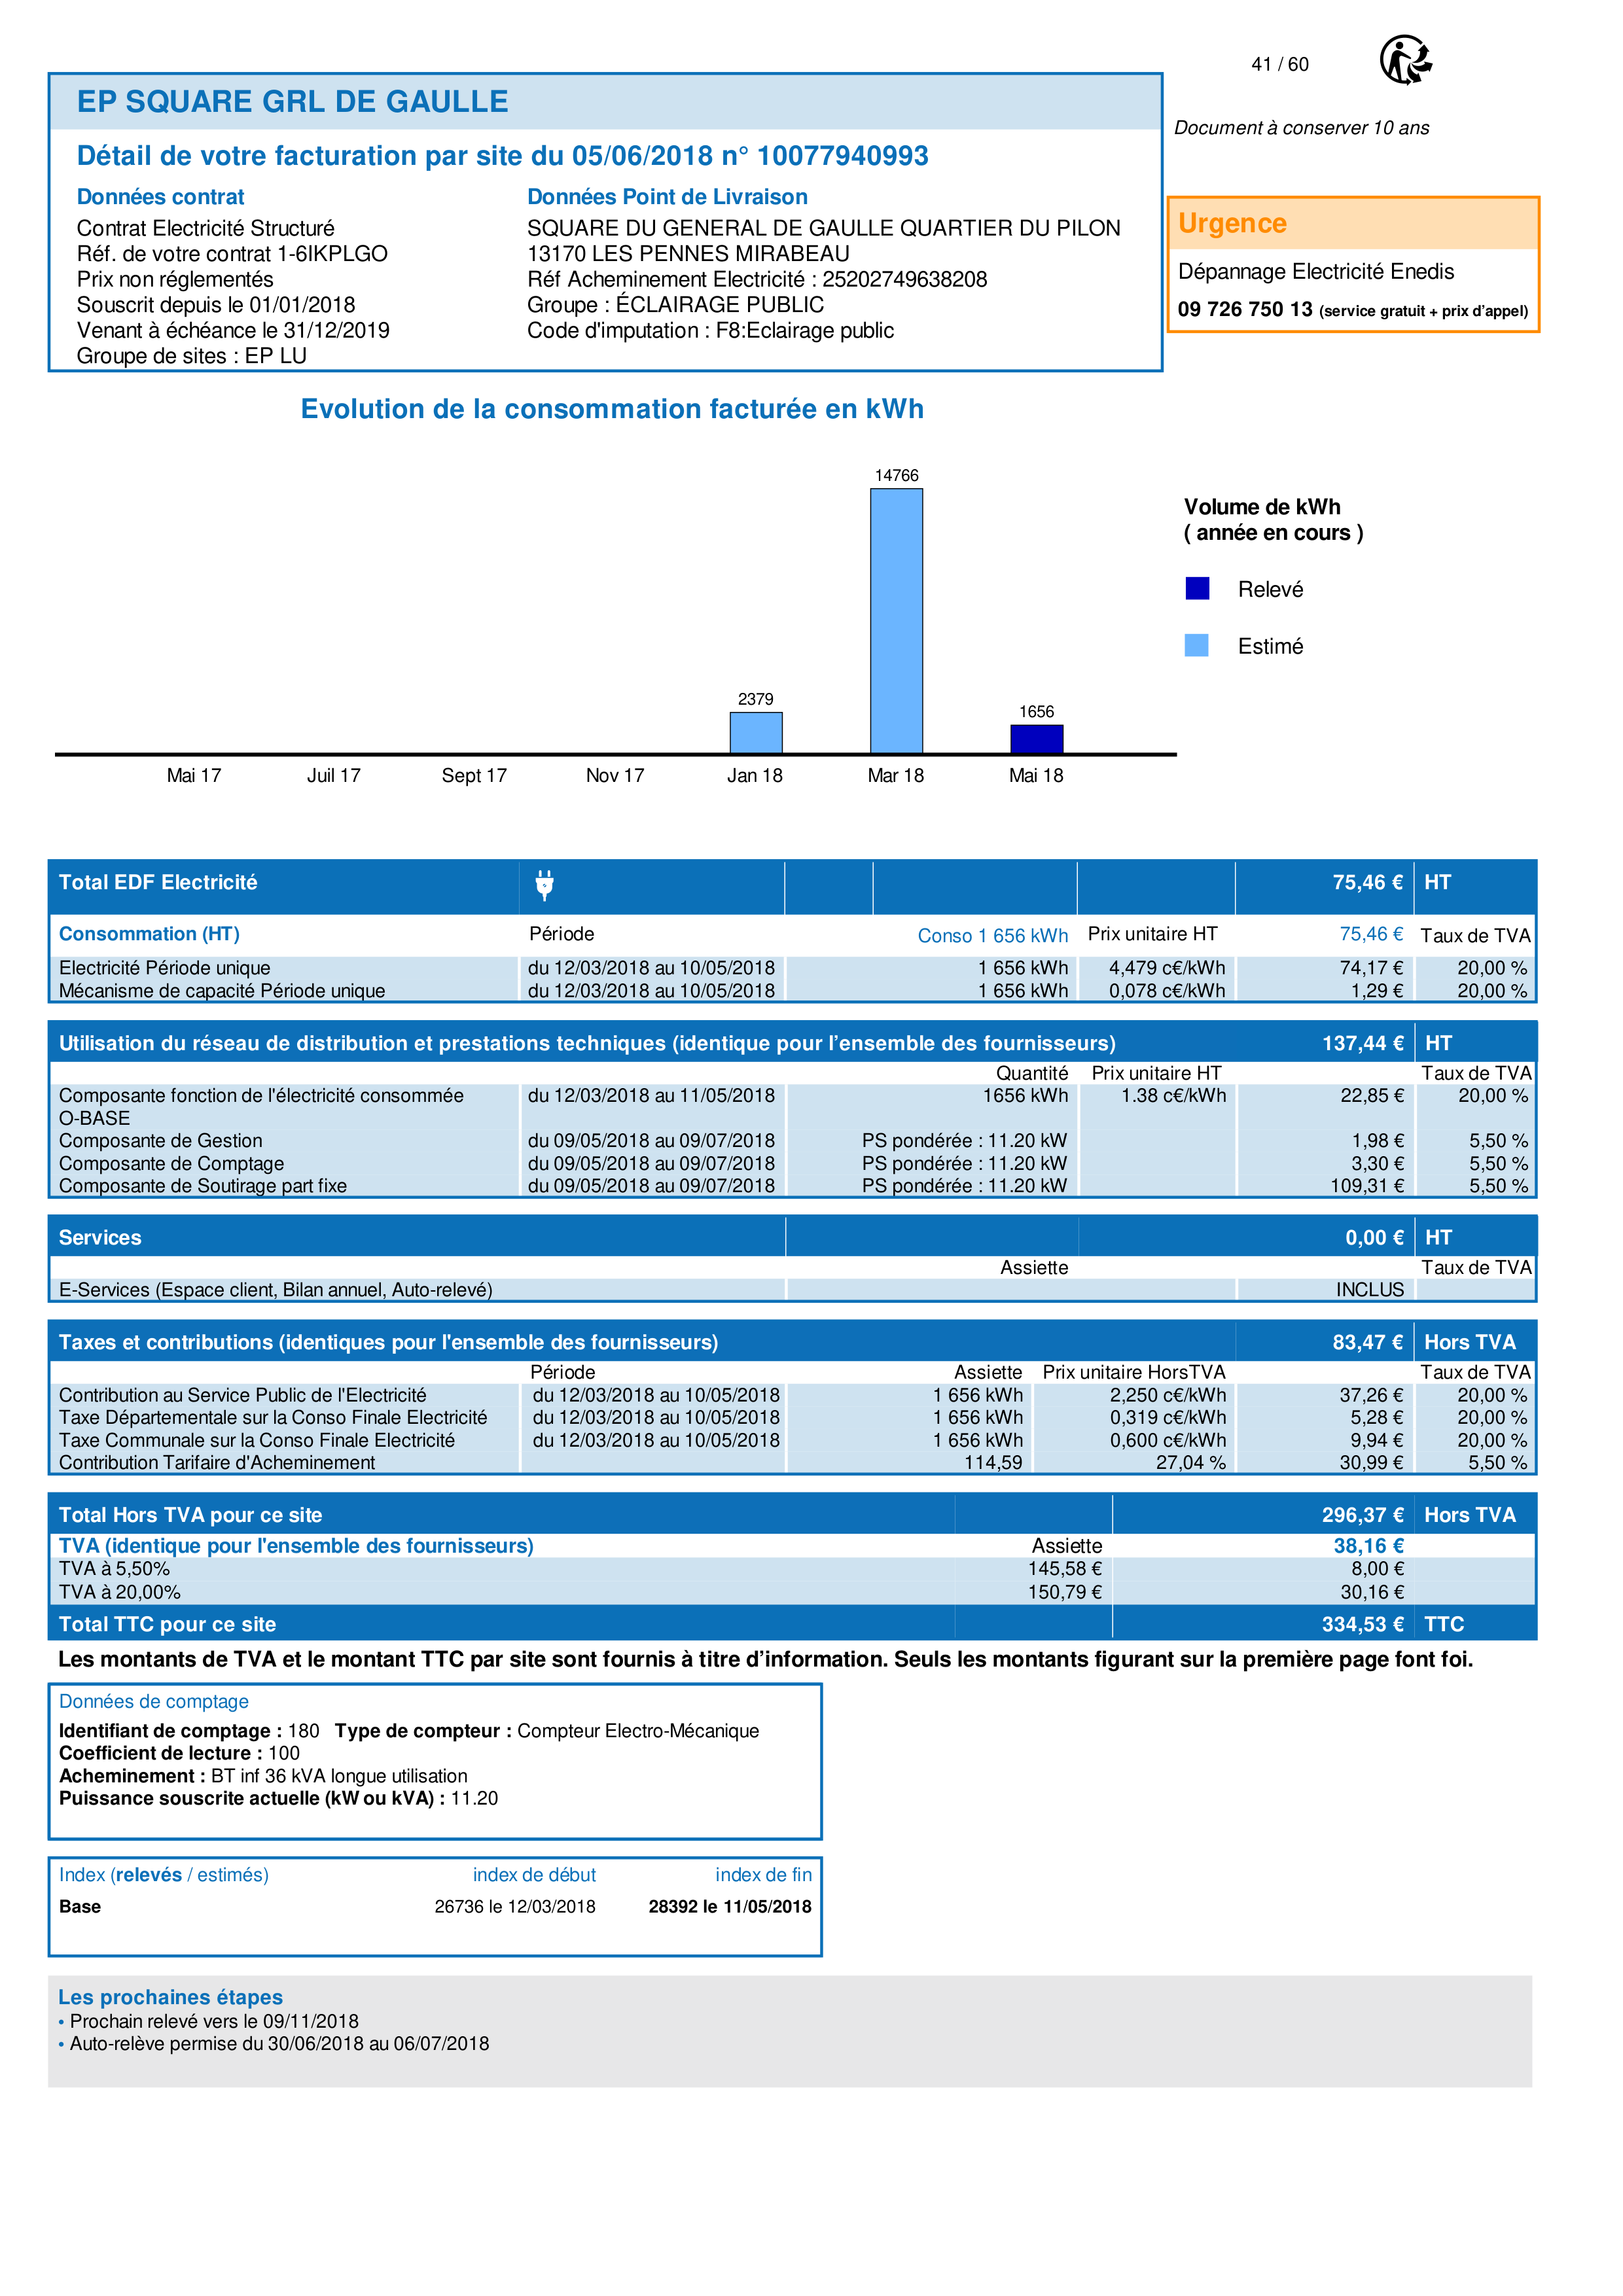area: (46, 1858, 824, 1954)
type_indicator: (48, 1856, 284, 1892)
